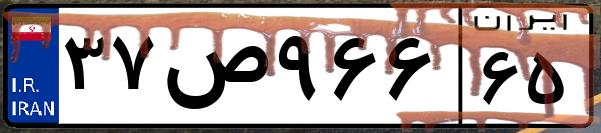3: (57, 26, 110, 100)
5: (525, 38, 570, 115)
6: (385, 28, 445, 110), (330, 28, 385, 110), (475, 38, 525, 113)
7: (110, 28, 158, 98)
9: (270, 28, 330, 110)
ص: (158, 20, 270, 120)
